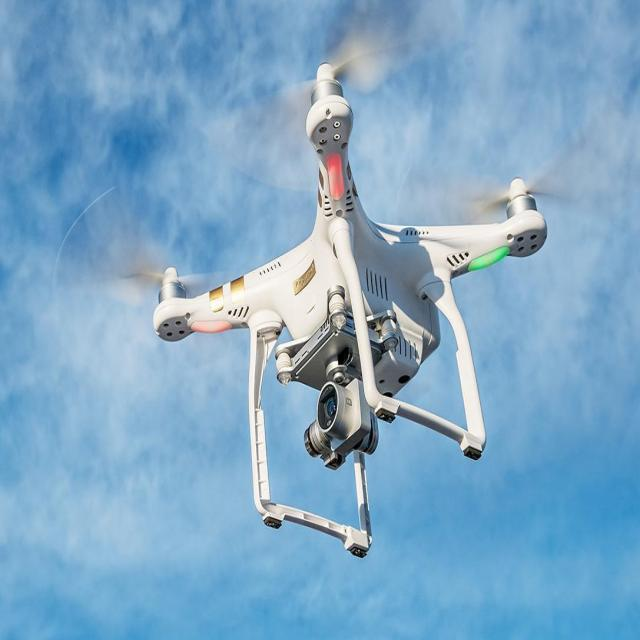UAV: (150, 56, 550, 559)
